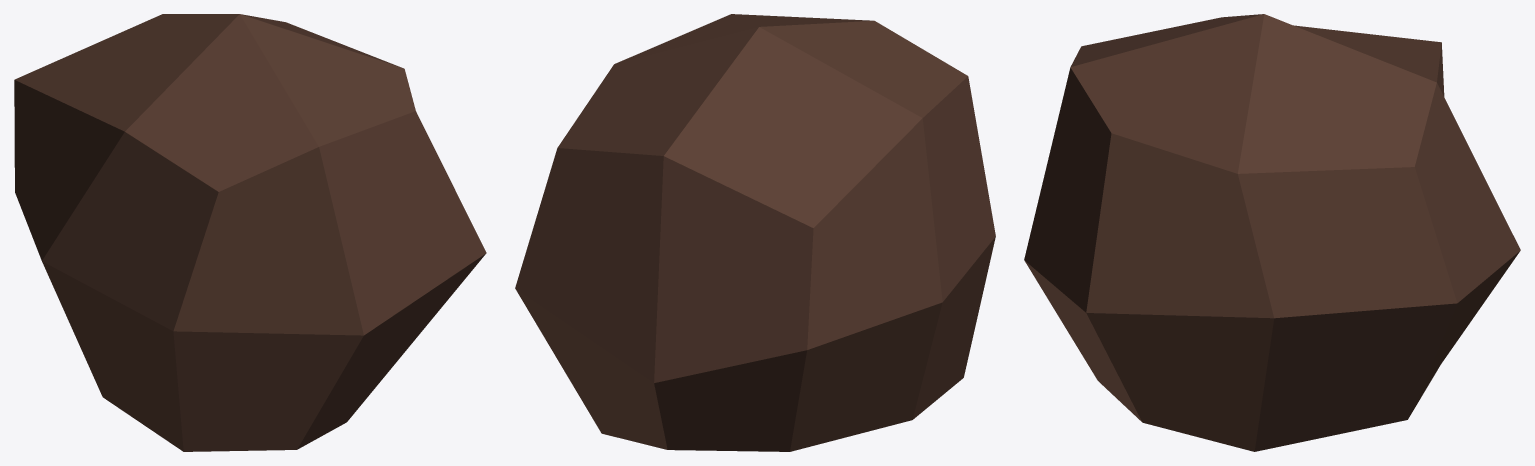
File: Pedra pequena.fbx
The picture shows the model from 3 angles, left to right: view 1: azimuth 30°, elevation 25°; view 2: azimuth 150°, elevation 25°; view 3: azimuth 270°, elevation 25°; orthographic projection. The views are drawn at different scales.
Visible parts, largest first — view 1: Stone; view 2: Stone; view 3: Stone.
Part boxes in pixels (box(x1,y1,x2,y2)): Stone: box(14, 14, 486, 451); Stone: box(515, 14, 995, 451); Stone: box(1024, 14, 1520, 451).
Bounding box in the file's own units: 7.5 × 7.56 × 8.28.
